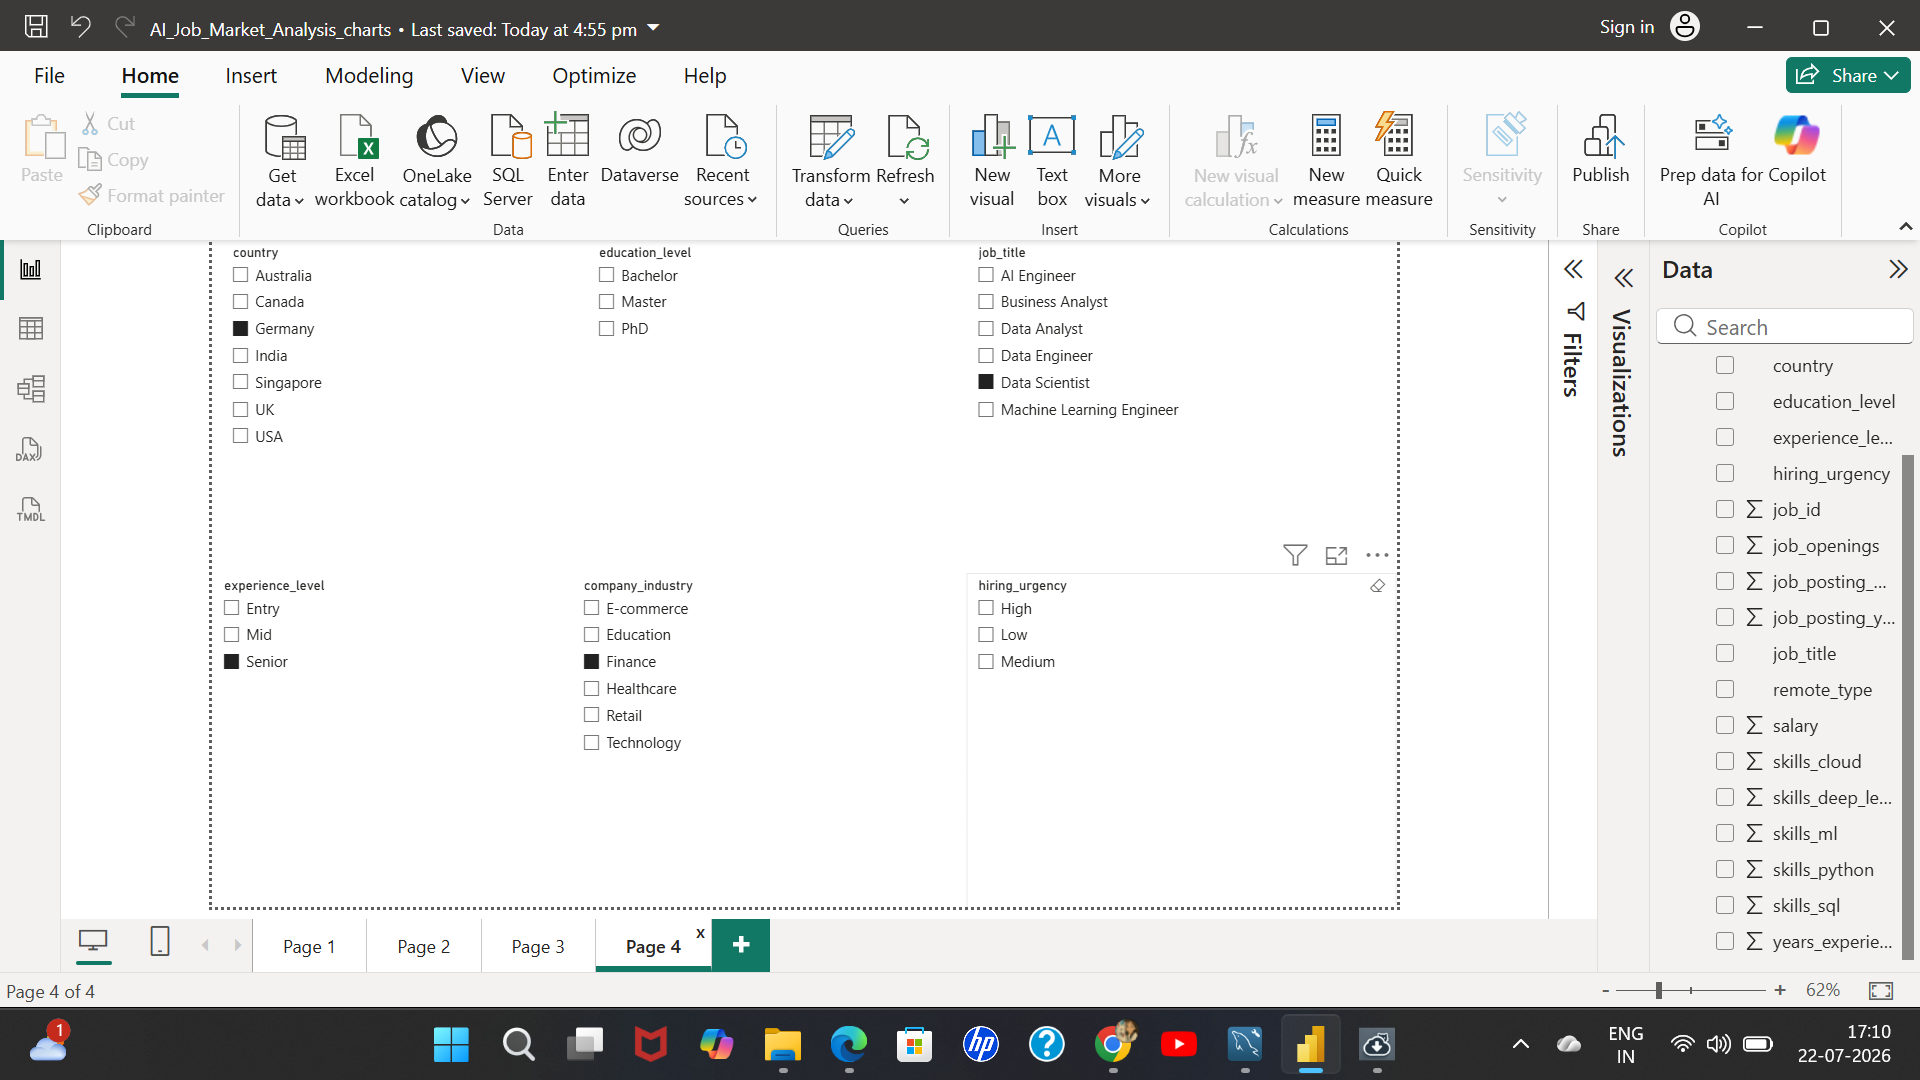

This screenshot's page, from the dashboard's own definition file:
{"tool":"powerbi","page":{"name":"Page 4","canvas":[1280,720],"ordinal":3},"visuals":[{"type":"slicer","fields":{"Values":["AI Job Market Dataset.country"]},"box":[9.4,0,379.8,343.9],"z":0},{"type":"slicer","fields":{"Values":["AI Job Market Dataset.experience_level"]},"box":[0,359.1,389.3,360.9],"z":1},{"type":"slicer","fields":{"Values":["AI Job Market Dataset.company_industry"]},"box":[389.3,359.1,432.8,360.9],"z":2},{"type":"slicer","fields":{"Values":["AI Job Market Dataset.education_level"]},"box":[404.4,0,410.1,311.8],"z":3},{"type":"slicer","fields":{"Values":["AI Job Market Dataset.job_title"]},"box":[814.5,0,383.6,326.9],"z":4},{"type":"slicer","fields":{"Values":["AI Job Market Dataset.hiring_urgency"]},"box":[814.5,359.1,464.9,360.9],"z":5}]}

Visuals, with their boxes on the page's 1280x720 design canvas (x1, y1, x2, y2). These are canvas units, not pixel positions in the 1920x1080 screenshot, which may show the page scaled, cropped or inside an application window:
slicer - AI Job Market Dataset.country: detection(9, 0, 389, 344)
slicer - AI Job Market Dataset.experience_level: detection(0, 359, 389, 720)
slicer - AI Job Market Dataset.company_industry: detection(389, 359, 822, 720)
slicer - AI Job Market Dataset.education_level: detection(404, 0, 814, 312)
slicer - AI Job Market Dataset.job_title: detection(814, 0, 1198, 327)
slicer - AI Job Market Dataset.hiring_urgency: detection(814, 359, 1279, 720)
